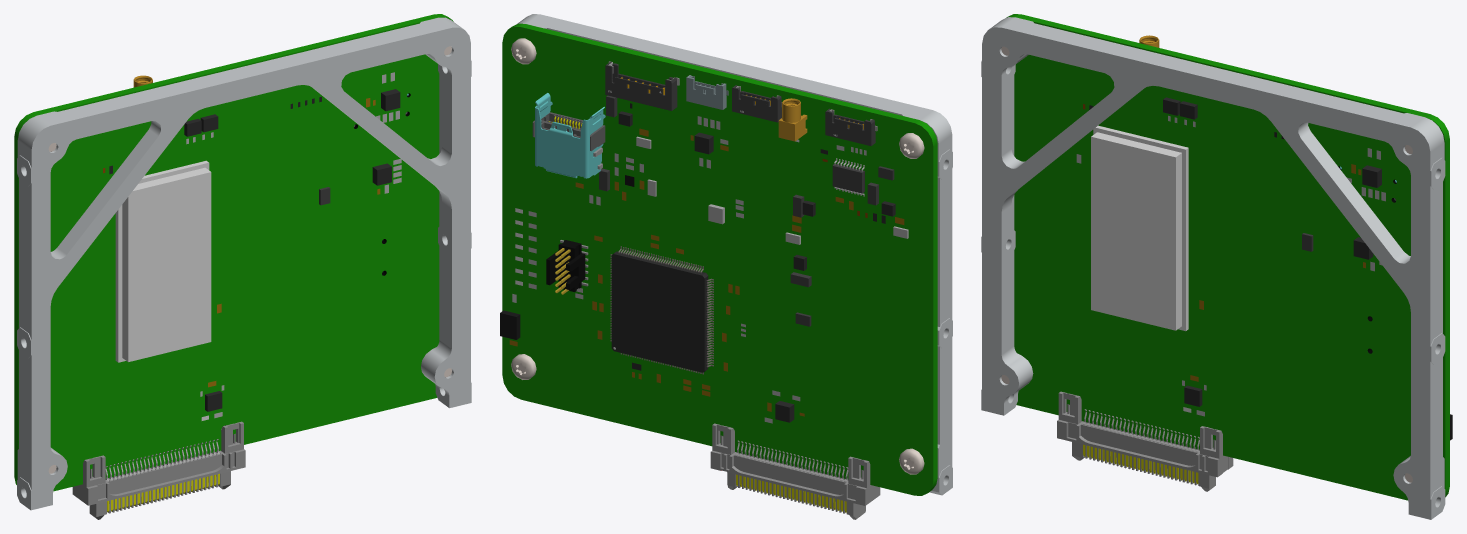
The model's file is payload.glb.
3 views of the same model, side by side, from view 1: azimuth 30°, elevation 25°; view 2: azimuth 150°, elevation 25°; view 3: azimuth 330°, elevation 25° (orthographic). The views are drawn at different scales.
Parts seen in each view (by area): view 1: board, parts, if_0, blocks, decals; view 2: board, parts, if_0, blocks, if_2, decals, if_3, if_1, if_7, if_5, if_4, if_6 (+3 smaller); view 3: board, parts, if_0, blocks, decals.
Part boxes in pixels (bbox=[...]): board: bbox=[14, 14, 453, 491]; parts: bbox=[17, 17, 471, 510]; if_0: bbox=[72, 421, 245, 519]; blocks: bbox=[184, 89, 400, 411]; decals: bbox=[103, 72, 401, 420]; board: bbox=[502, 23, 937, 495]; parts: bbox=[511, 14, 952, 495]; if_0: bbox=[710, 423, 880, 519]; blocks: bbox=[500, 95, 908, 422]; if_2: bbox=[532, 93, 605, 178]; decals: bbox=[509, 103, 904, 423]; if_3: bbox=[605, 61, 679, 110]; if_1: bbox=[546, 240, 588, 294]; if_7: bbox=[825, 108, 877, 145]; if_5: bbox=[732, 85, 781, 122]; if_4: bbox=[686, 75, 728, 109]; if_6: bbox=[778, 98, 807, 141]; board: bbox=[1006, 14, 1449, 500]; parts: bbox=[981, 17, 1445, 519]; if_0: bbox=[1057, 391, 1233, 491]; blocks: bbox=[1163, 97, 1452, 440]; decals: bbox=[1076, 104, 1385, 416].
Bounding box in the file's own units: 92.35 × 83.85 × 12.8.
